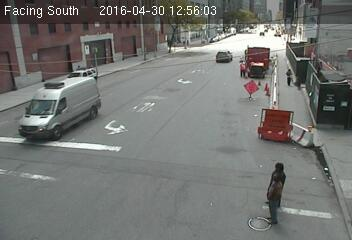neg: (34, 94, 54, 121), (324, 90, 342, 114), (212, 46, 227, 66), (91, 50, 105, 68), (46, 17, 59, 34), (271, 25, 283, 42), (169, 32, 181, 48), (102, 17, 113, 32), (116, 17, 127, 32), (46, 62, 57, 77), (253, 25, 263, 39), (213, 22, 222, 34)
pos: (254, 173, 294, 227), (263, 160, 295, 203), (283, 68, 298, 88), (237, 58, 252, 78)
